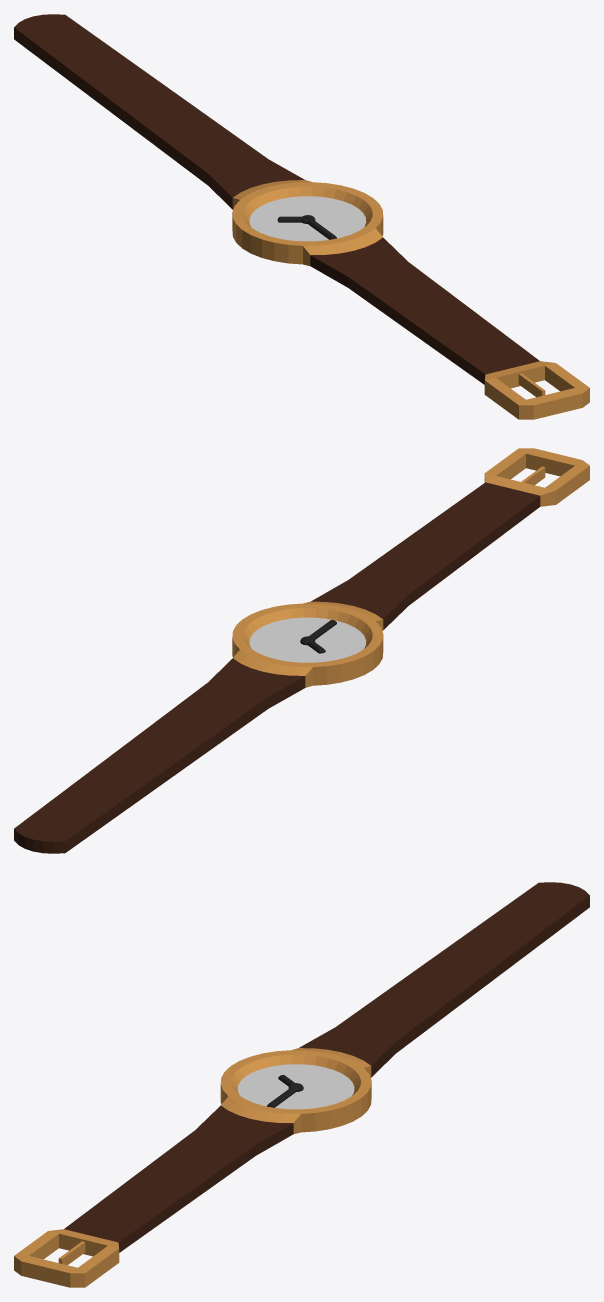
File: 005. Prop watch.fbx
3 views of the same model, one above another, from view 1: azimuth 30°, elevation 25°; view 2: azimuth 150°, elevation 25°; view 3: azimuth 330°, elevation 25° (orthographic).
Parts seen in each view (by area): view 1: Cylinder; view 2: Cylinder; view 3: Cylinder.
Boxes of the visible parts, <box> form: Cylinder: <box>14,14,589,419</box>; Cylinder: <box>14,448,589,853</box>; Cylinder: <box>14,882,589,1287</box>.
Bounding box in the file's own units: 37.81 × 5.12 × 263.
